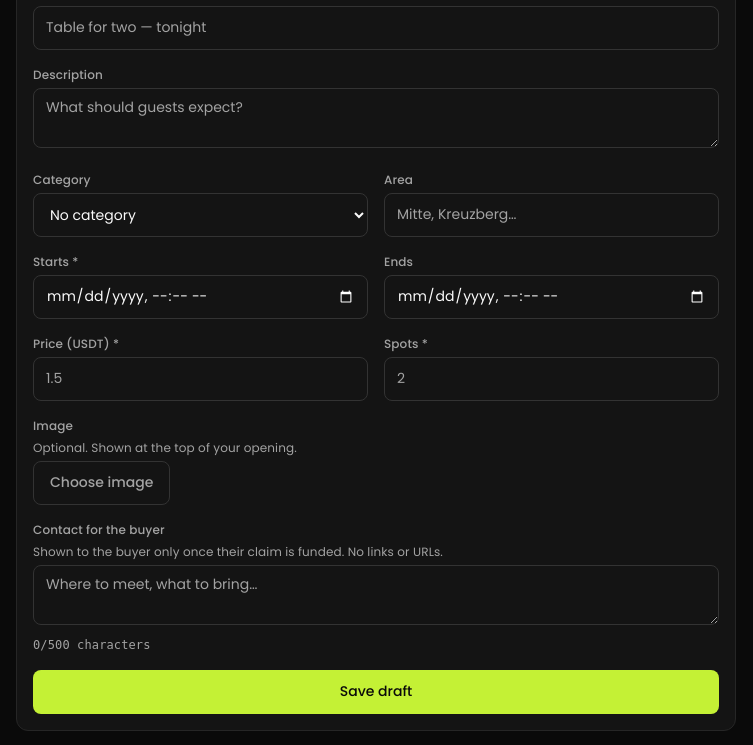
Test: /sell/new states › renders the form and validates inline before submitting
The width and height of the screenshot is (753, 745).
(page scrolled)
Check: the field labelled "Title *" is shown, box [33, 6, 719, 50]
Click the button "Save draft" at (376, 692), box [33, 670, 719, 714]
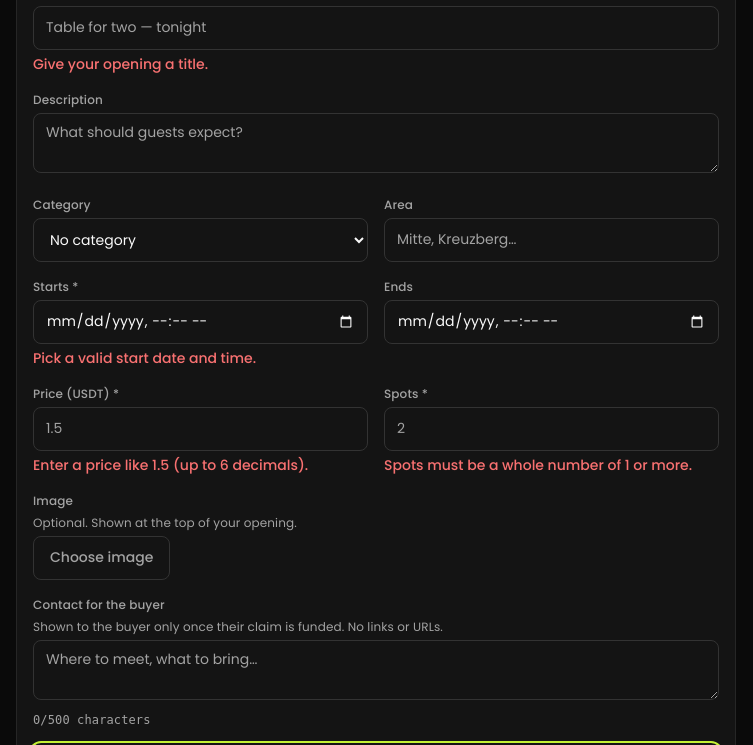
Check: the text "Give your opening a title." is shown, box [33, 54, 208, 74]
